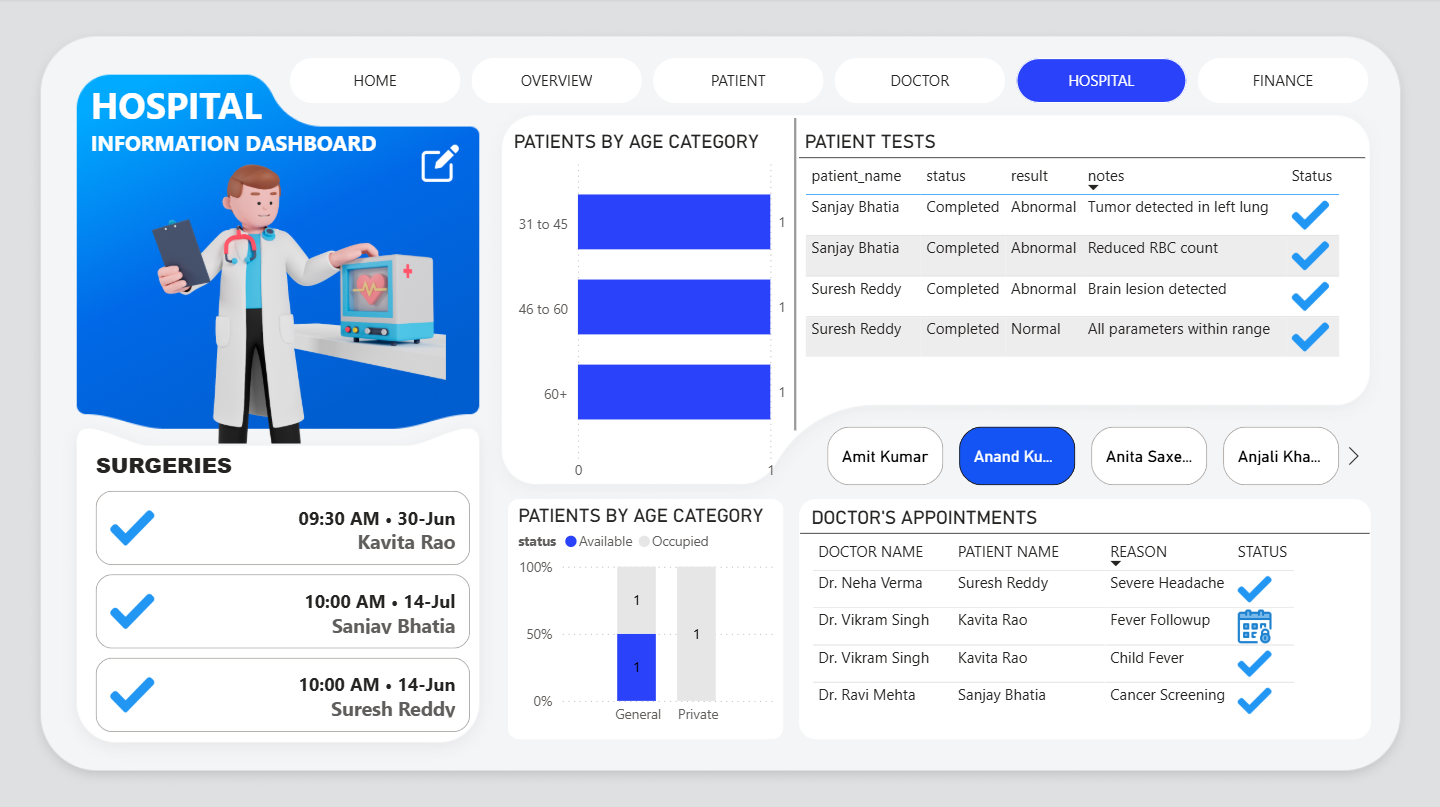

What the dashboard file says about the page in this screenshot:
{"tool":"powerbi","page":{"name":"HOSPITAL","canvas":[1280,720],"ordinal":4},"visuals":[{"type":"textbox","box":[76,67,265.1,77.6],"z":0,"group":"g1"},{"type":"image","box":[68.5,116.9,382,283.2],"z":0},{"type":"group","id":"g1","title":"Group 1","box":[76,67,336.2,101.7],"z":1000},{"type":"image","box":[369.4,124.9,42.8,43.8],"z":1000,"group":"g1"},{"type":"advancedSlicerVisual","title":"SURGERIES","fields":{"Values":["patient_details.Surgery_Time_Date"]},"box":[81,400,342,257],"z":2000},{"type":"tableEx","title":"DOCTOR''S APPOINTMENTS","fields":{"Values":["patient_details.doctor_name","patient_details.patient_name","appointment.reason","appointment.STATUS_ICON"]},"box":[709,444,507,213],"z":3000},{"type":"shape","box":[681,106,50,277],"z":4000},{"type":"clusteredBarChart","title":"PATIENTS BY AGE CATEGORY","fields":{"Category":["patient_details.AGE_CATEGORY"],"Y":["_MEASURES.patient_count"]},"box":[451,117,255,320],"z":5000},{"type":"tableEx","title":"PATIENT TESTS","fields":{"Values":["patient_details.patient_name","patient_tests.status","patient_tests.result","patient_tests.notes","patient_tests.TEST_STATUS_ICON_COL"]},"box":[709,117,502,243],"z":6000},{"type":"hundredPercentStackedColumnChart","title":"PATIENTS BY AGE CATEGORY","fields":{"Category":["beds_info.room_type"],"Y":["CountNonNull(beds_info.beds)"],"Series":["beds_info.status"]},"box":[451,444,244,213],"z":7000},{"type":"advancedSlicerVisual","fields":{"Values":["staff.name"]},"box":[709,375,507,62],"z":8000},{"type":"pageNavigator","box":[258,53.4,957.5,40.3],"z":9000}]}

Visuals, with their boxes in screenshot pixels (x1, y1, x2, y2), scaled from the page's 1280x720 canvas onto the 1440x807 screenshot:
textbox: box=[86, 75, 384, 162]
image: box=[77, 131, 507, 448]
"Group 1" group: box=[86, 75, 464, 189]
image: box=[416, 140, 464, 189]
"SURGERIES" advancedSlicerVisual: box=[91, 448, 476, 736]
"DOCTOR''S APPOINTMENTS" tableEx: box=[798, 498, 1368, 736]
shape: box=[766, 119, 822, 429]
"PATIENTS BY AGE CATEGORY" clusteredBarChart: box=[507, 131, 794, 490]
"PATIENT TESTS" tableEx: box=[798, 131, 1362, 404]
"PATIENTS BY AGE CATEGORY" hundredPercentStackedColumnChart: box=[507, 498, 782, 736]
advancedSlicerVisual - staff.name: box=[798, 420, 1368, 490]
pageNavigator: box=[290, 60, 1367, 105]
